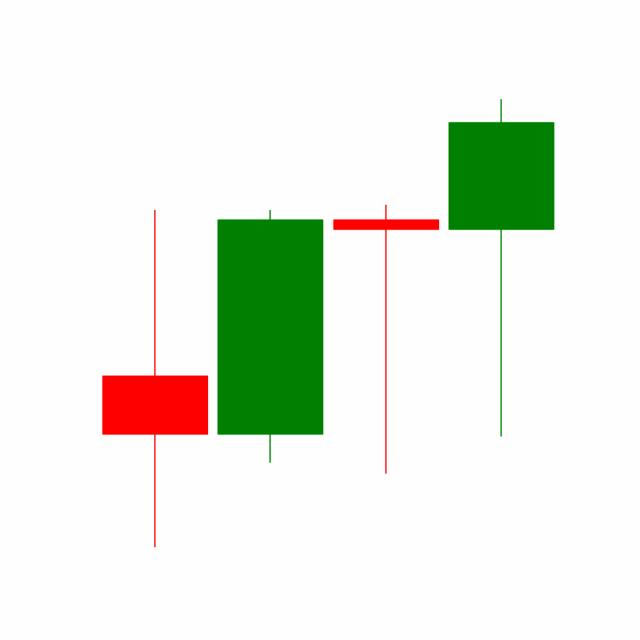Hanging Man: (328, 202, 444, 476)
